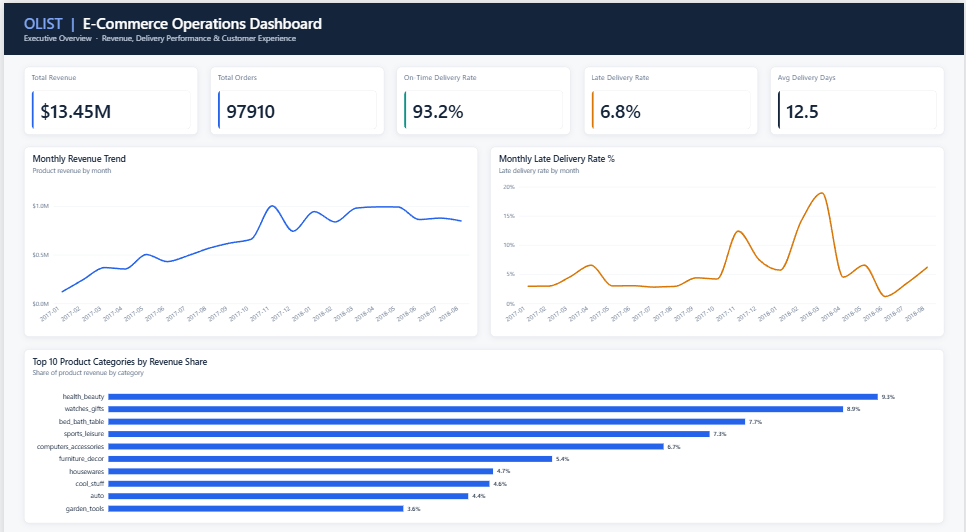

This screenshot's page, from the dashboard's own definition file:
{"tool":"powerbi","page":{"name":"Executive Overview","canvas":[1920,1080],"ordinal":1},"visuals":[{"type":"cardVisual","title":"Total Orders","fields":{"Data":["_Measures.Revenue Orders"]},"box":[413,128,348,136],"z":0},{"type":"cardVisual","title":"Total Revenue","fields":{"Data":["_Measures.Product Revenue"]},"box":[40,128,348,136],"z":1000},{"type":"cardVisual","title":"Late Delivery Rate","fields":{"Data":["_Measures.Late Delivery Rate"]},"box":[1159,128,348,136],"z":2000},{"type":"cardVisual","title":"Avg Delivery Days","fields":{"Data":["_Measures.Avg Delivery Days"]},"box":[1532,128,348,136],"z":3000},{"type":"cardVisual","title":"On-Time Delivery Rate","fields":{"Data":["_Measures.On-Time Delivery Rate"]},"box":[786,128,348,136],"z":4000},{"type":"textbox","box":[0,0,1920,104],"z":5000},{"type":"lineChart","title":"Monthly Revenue Trend","fields":{"Category":["dim_date.year_month"],"Y":["_Measures.Product Revenue"]},"box":[40,288,908,380],"z":6000},{"type":"lineChart","title":"Monthly Late Delivery Rate %","fields":{"Category":["dim_date.year_month"],"Y":["_Measures.Late Delivery Rate"]},"box":[972,288,908,380],"z":6001},{"type":"clusteredBarChart","title":"Top 10 Product Categories by Revenue Share","fields":{"Category":["dim_product.category_en"],"Y":["_Measures.Category Revenue Share"]},"box":[40,692,1840,348],"z":6003}]}

Visuals, with their boxes in screenshot pixels (x1, y1, x2, y2), scaled from the page's 1920x1080 canvas onto the 966x532 screenshot:
"Total Orders" cardVisual: {"x1": 208, "y1": 63, "x2": 383, "y2": 130}
"Total Revenue" cardVisual: {"x1": 20, "y1": 63, "x2": 195, "y2": 130}
"Late Delivery Rate" cardVisual: {"x1": 583, "y1": 63, "x2": 758, "y2": 130}
"Avg Delivery Days" cardVisual: {"x1": 771, "y1": 63, "x2": 946, "y2": 130}
"On-Time Delivery Rate" cardVisual: {"x1": 395, "y1": 63, "x2": 571, "y2": 130}
textbox: {"x1": 0, "y1": 0, "x2": 965, "y2": 51}
"Monthly Revenue Trend" lineChart: {"x1": 20, "y1": 142, "x2": 477, "y2": 329}
"Monthly Late Delivery Rate %" lineChart: {"x1": 489, "y1": 142, "x2": 946, "y2": 329}
"Top 10 Product Categories by Revenue Share" clusteredBarChart: {"x1": 20, "y1": 341, "x2": 946, "y2": 512}
